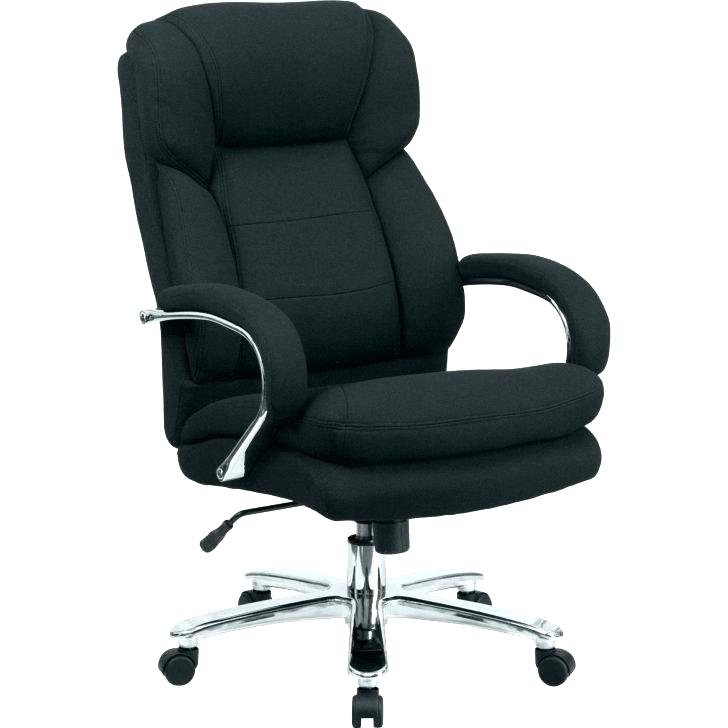chairs: (114, 2, 612, 728)
